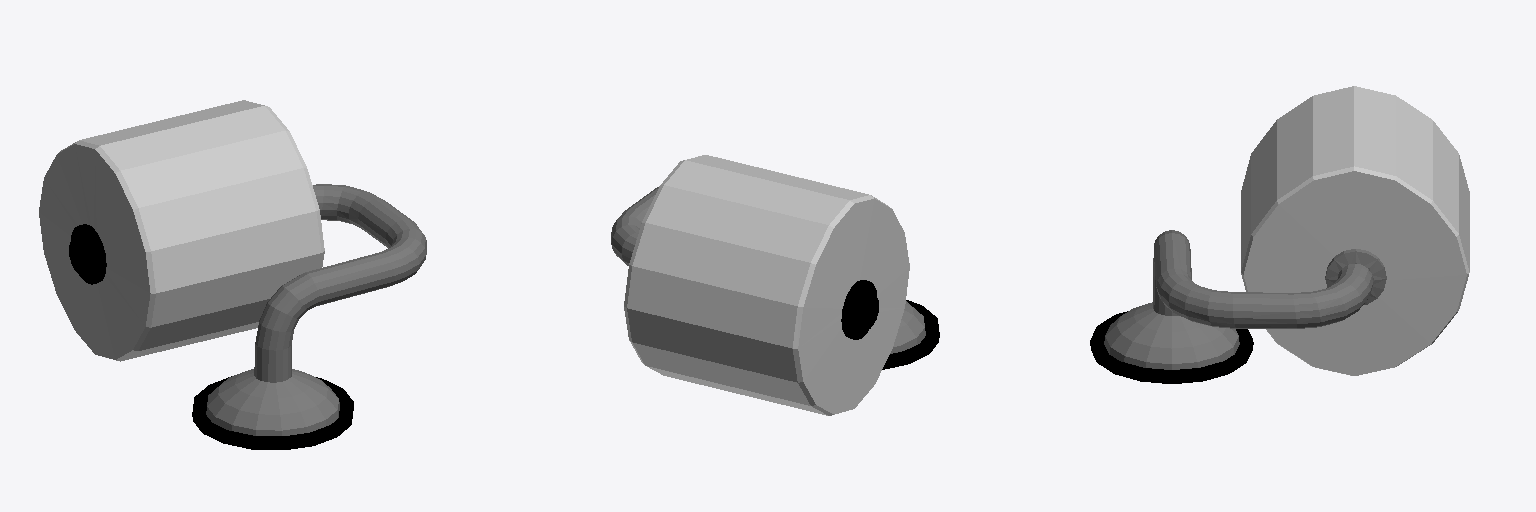
File: ToiletPaper.obj
3 renders of one model, left to right at view 1: azimuth 30°, elevation 25°; view 2: azimuth 150°, elevation 25°; view 3: azimuth 270°, elevation 25°, orthographic.
Visible parts, largest first — view 1: initialShadingGroup Default, Default; view 2: initialShadingGroup Default, Default; view 3: initialShadingGroup Default, Default.
Part boxes in pixels (left/top/right/bottom): initialShadingGroup Default: left=39, top=100, right=324, bottom=361; Default: left=69, top=184, right=426, bottom=449; initialShadingGroup Default: left=624, top=155, right=909, bottom=415; Default: left=611, top=187, right=939, bottom=369; initialShadingGroup Default: left=1241, top=86, right=1469, bottom=375; Default: left=1090, top=230, right=1386, bottom=383.
Size of the model in its own units: 0.1562 by 0.1191 by 0.1828.